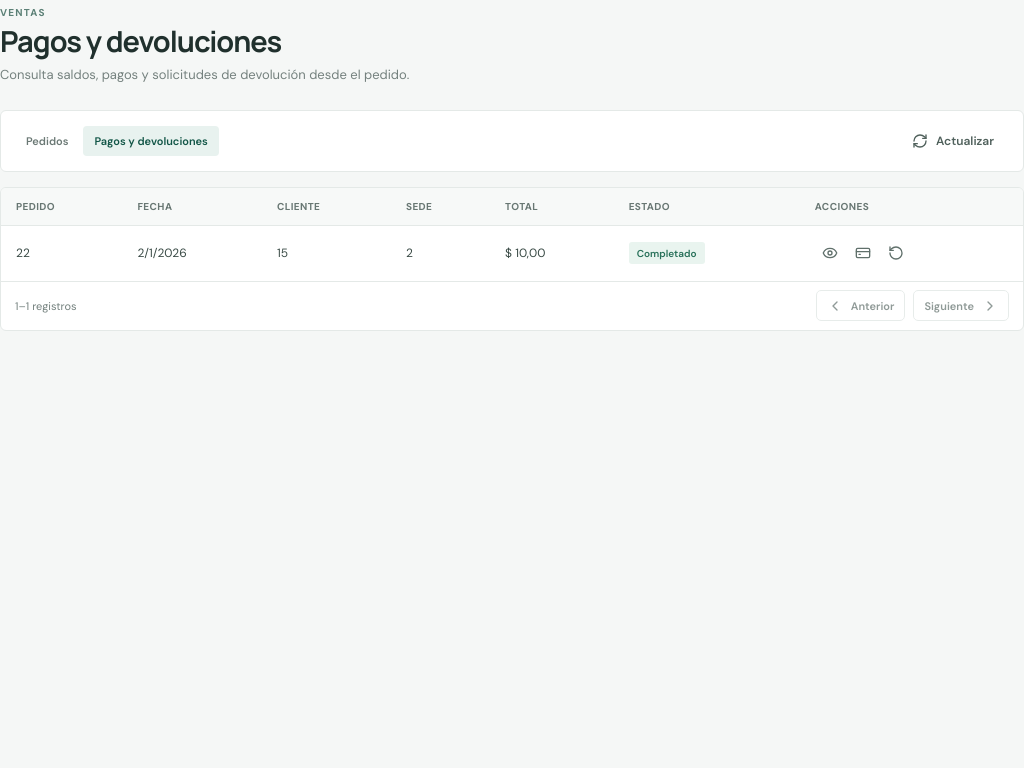
Test: SalesPage return resolution › invalidates inventory after an approved return succeeds
Click the button named "Devoluciones": (896, 253) x1=881 y1=238 x2=912 y2=269
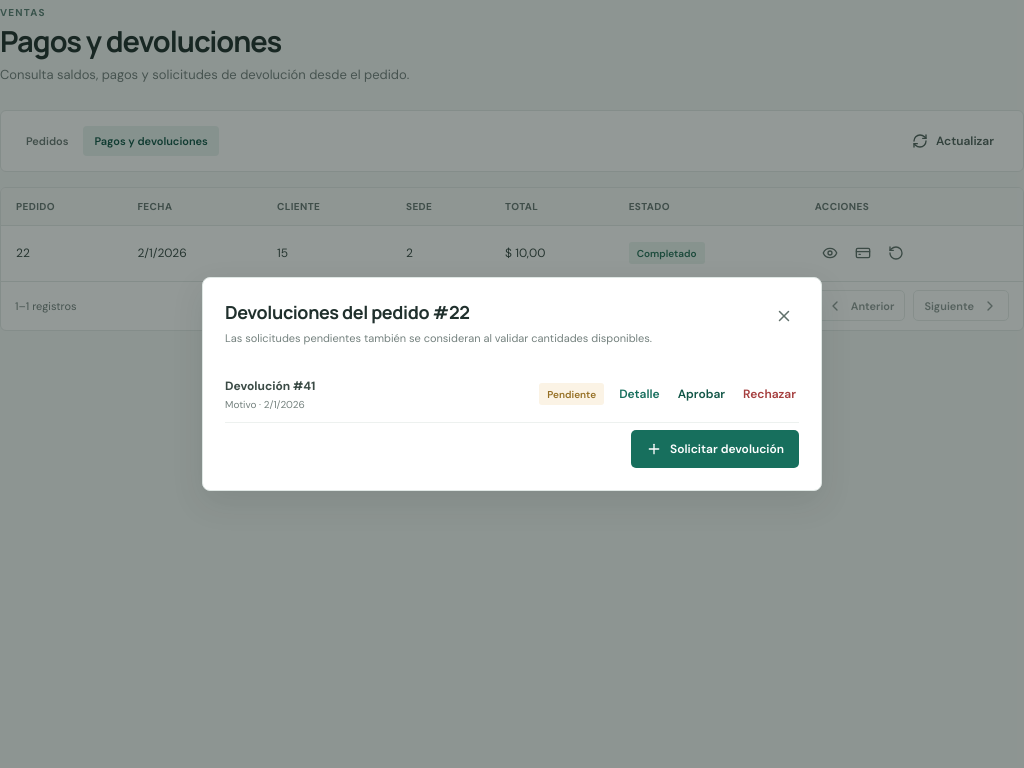
Click the button "Aprobar": (701, 394) x1=675 y1=384 x2=728 y2=404
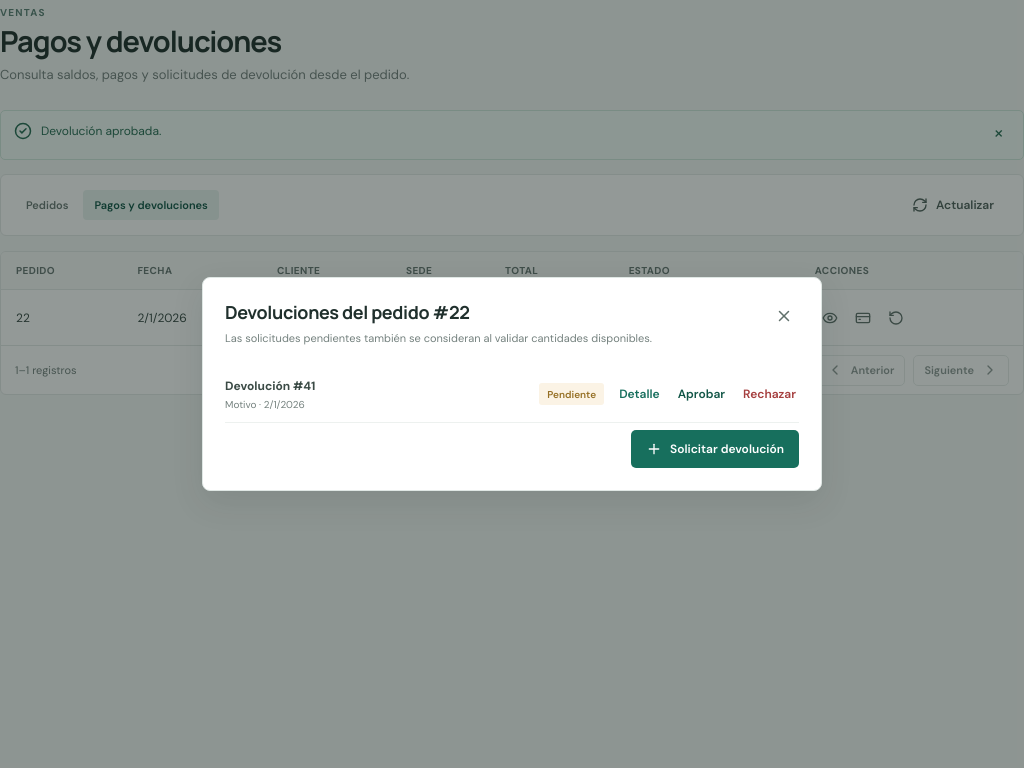
Result: the text "Devolución aprobada." is shown at x1=41 y1=122 x2=161 y2=140
